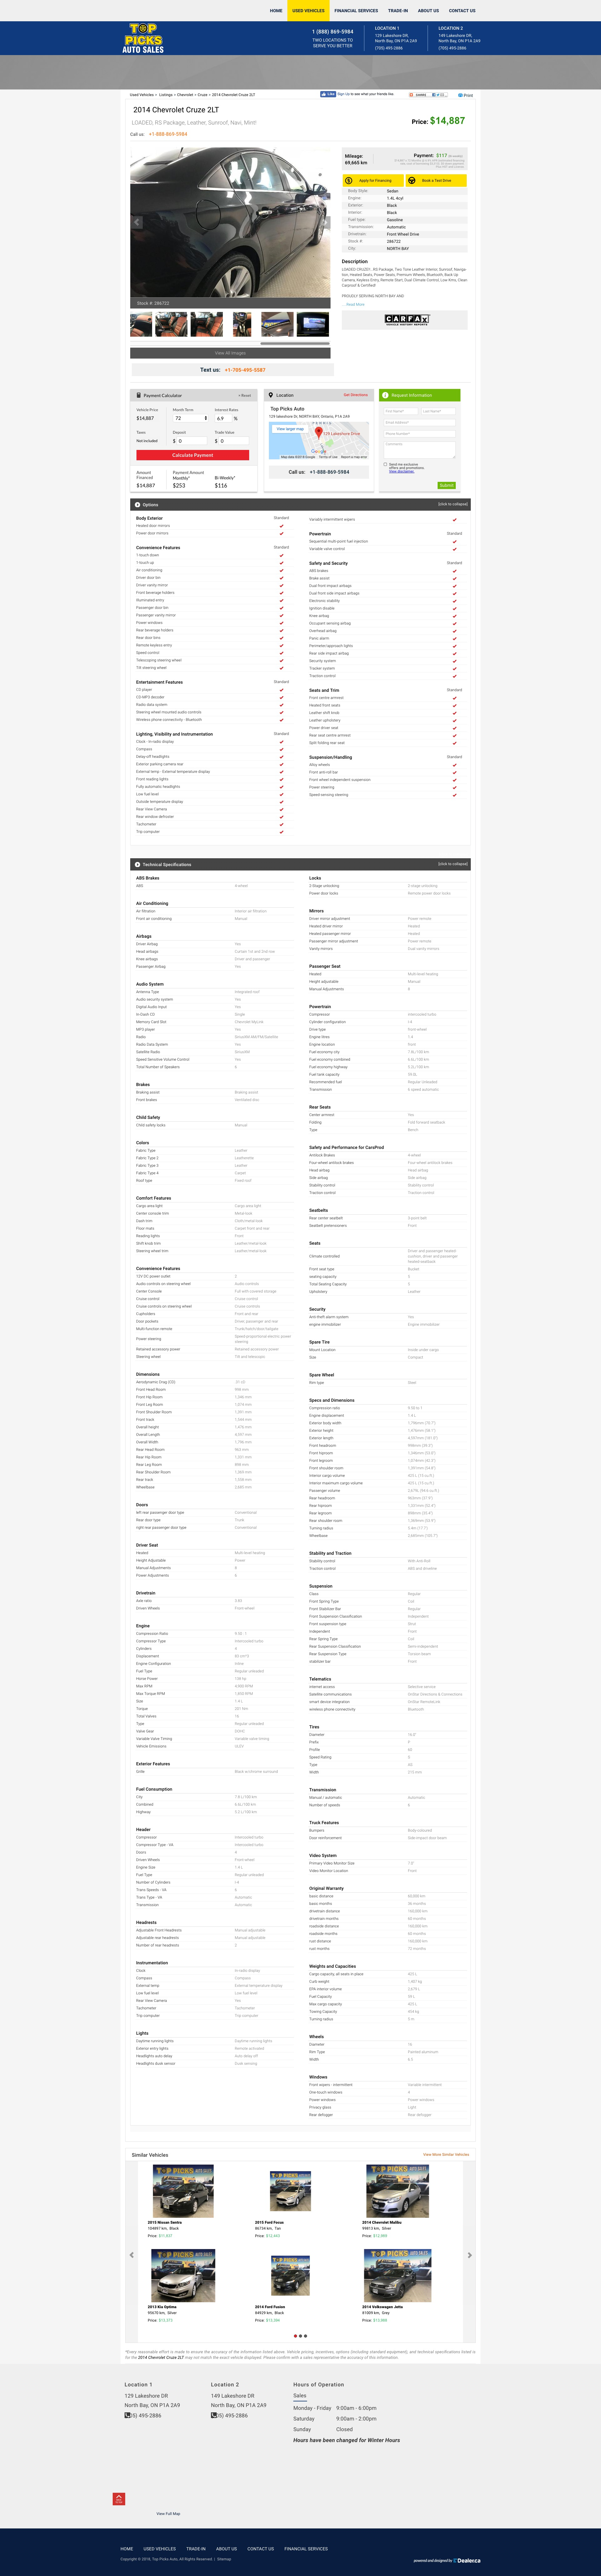car: (322, 218, 328, 227)
